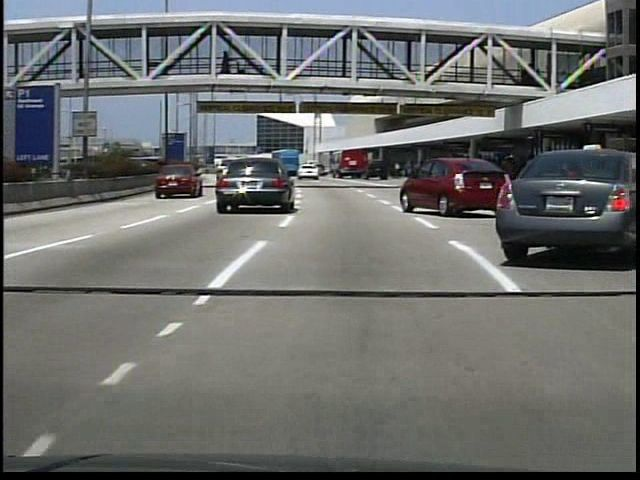person: (221, 50, 236, 78)
